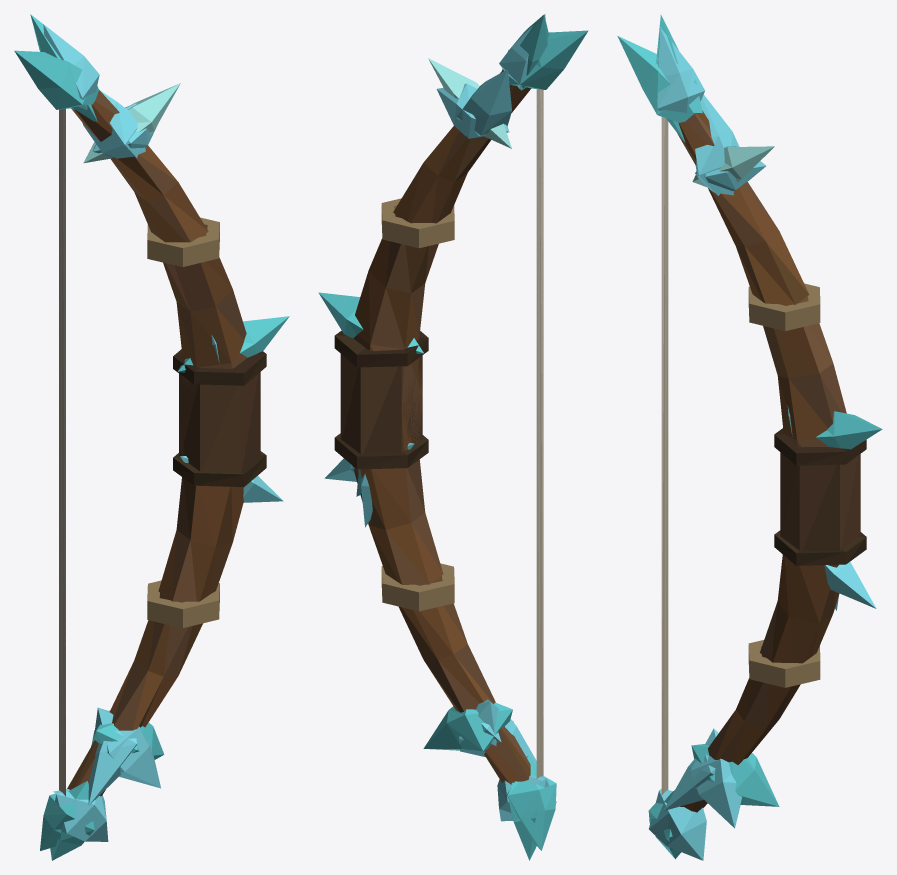
The model's file is B09_4_crystal_root_bow.obj.
3 views of the same model, side by side, from view 1: azimuth 30°, elevation 25°; view 2: azimuth 150°, elevation 25°; view 3: azimuth 330°, elevation 25° (orthographic).
Parts seen in each view (by area): view 1: B09_4_crystal_root_bow; view 2: B09_4_crystal_root_bow; view 3: B09_4_crystal_root_bow.
Boxes of the visible parts, box(x1,y1,x2,y2) form: B09_4_crystal_root_bow: box(14, 14, 289, 860); B09_4_crystal_root_bow: box(318, 14, 588, 860); B09_4_crystal_root_bow: box(617, 15, 882, 860).
Bounding box in the file's own units: 45 × 134 × 14.
